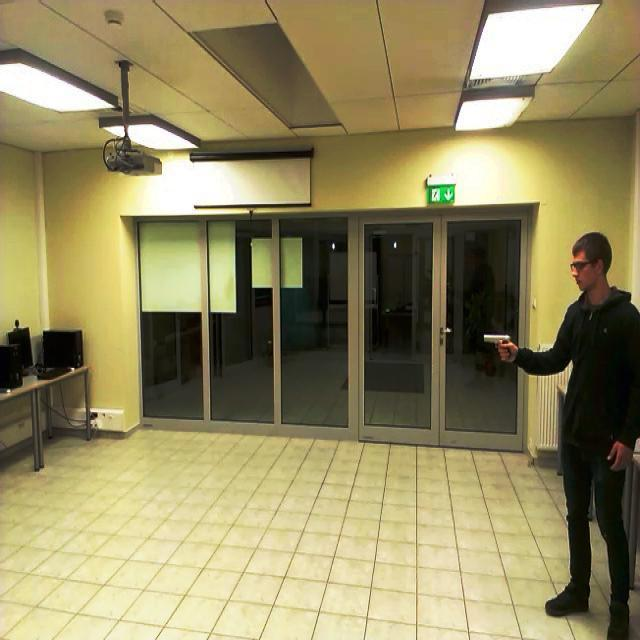Gun: (477, 319, 516, 364)
